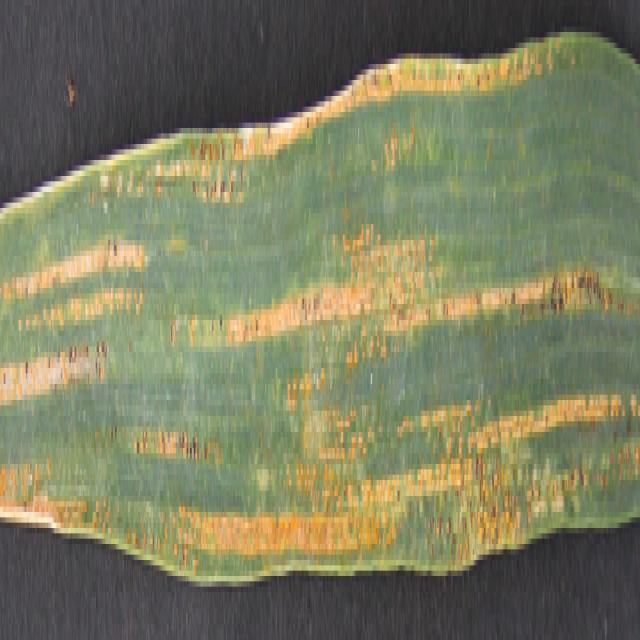leaf rust: (1, 69, 637, 544)
